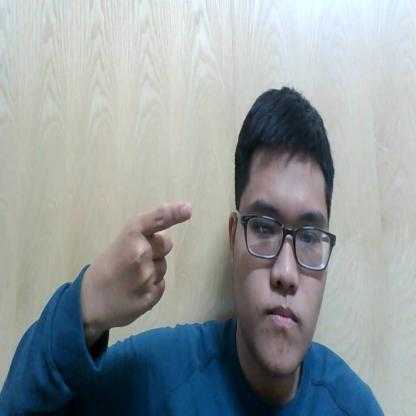left: (94, 196, 194, 326)
